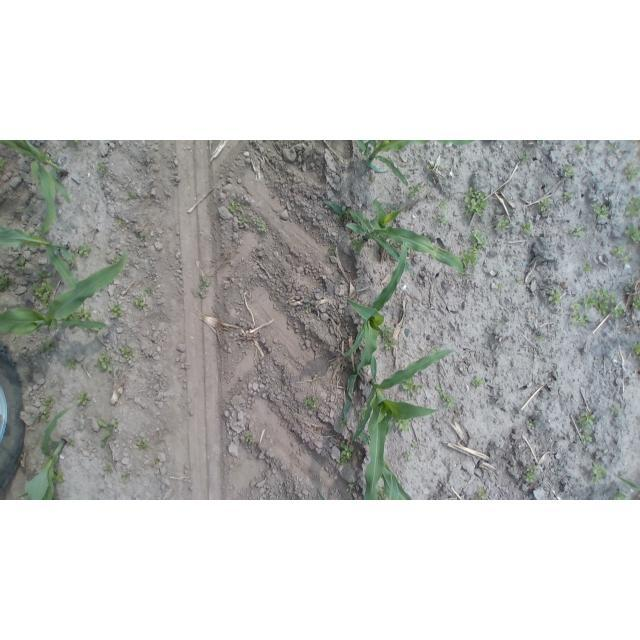Maize: (349, 349, 456, 500), (341, 239, 408, 417), (323, 197, 468, 275), (0, 251, 128, 334), (1, 141, 76, 236), (1, 225, 79, 296), (353, 141, 476, 184), (24, 403, 77, 500), (359, 429, 413, 499), (612, 472, 640, 496)
Weeds: (582, 288, 626, 319), (227, 201, 267, 233), (460, 230, 485, 268), (33, 268, 54, 307), (463, 187, 489, 218), (96, 417, 119, 448), (435, 385, 456, 406), (95, 351, 114, 373), (402, 376, 421, 397), (570, 304, 588, 326), (339, 442, 355, 465), (576, 411, 596, 429), (38, 397, 54, 419), (611, 245, 629, 263), (623, 162, 640, 181), (72, 307, 94, 321), (592, 202, 611, 218), (625, 197, 640, 217), (198, 275, 211, 298), (592, 464, 608, 482), (548, 287, 563, 306), (76, 242, 93, 258), (118, 344, 135, 360), (625, 225, 640, 243), (349, 235, 363, 253), (568, 224, 586, 238), (525, 465, 538, 484), (579, 432, 595, 447), (538, 195, 551, 213), (304, 395, 319, 410), (53, 464, 64, 484), (498, 216, 511, 232), (40, 339, 56, 352), (382, 326, 395, 342), (396, 417, 410, 431), (135, 437, 149, 451), (111, 303, 125, 317), (474, 487, 489, 500), (17, 257, 28, 274), (134, 296, 147, 310), (434, 214, 448, 227), (521, 220, 533, 234), (76, 391, 88, 405), (563, 166, 575, 179), (66, 358, 79, 370), (472, 375, 485, 387), (1, 275, 10, 292), (612, 492, 628, 501), (437, 199, 449, 211), (631, 343, 640, 359), (91, 319, 102, 332), (377, 489, 390, 500), (411, 186, 422, 199), (562, 191, 575, 202), (66, 256, 78, 267), (97, 162, 107, 175), (574, 144, 587, 154), (631, 297, 640, 311), (103, 464, 114, 475), (384, 340, 396, 350), (518, 153, 530, 163), (121, 471, 131, 482), (527, 419, 537, 429), (425, 161, 435, 171), (151, 455, 160, 466), (611, 405, 620, 416), (145, 285, 154, 296), (359, 405, 366, 419), (584, 263, 593, 273), (0, 157, 6, 172), (246, 433, 254, 444), (328, 245, 336, 255), (405, 453, 412, 464), (515, 277, 523, 286), (497, 283, 506, 291), (387, 204, 395, 213), (305, 304, 314, 312), (347, 483, 356, 491), (129, 192, 138, 200), (338, 420, 346, 429), (411, 442, 420, 450), (609, 142, 618, 150), (140, 233, 148, 241), (119, 219, 126, 228), (536, 335, 544, 342), (432, 347, 440, 354), (337, 215, 344, 222), (68, 439, 75, 446), (370, 177, 376, 184), (314, 373, 319, 381), (69, 140, 79, 144), (272, 290, 277, 296), (538, 140, 545, 144)
